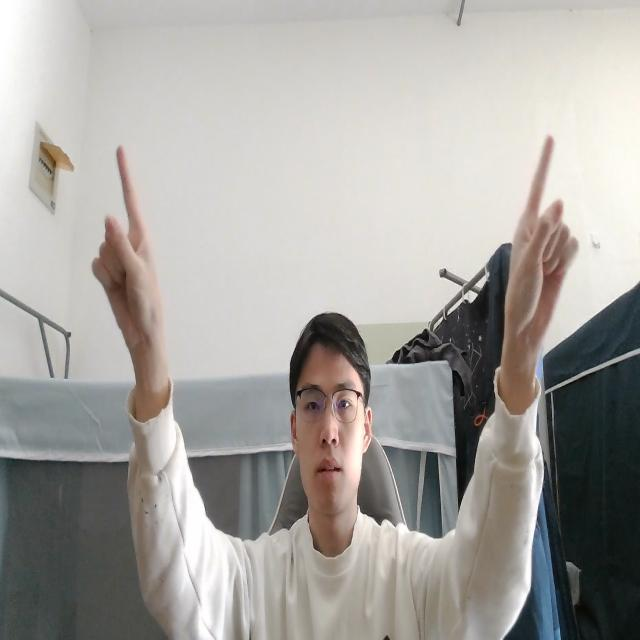one: (89, 134, 172, 389), (500, 121, 579, 373)
